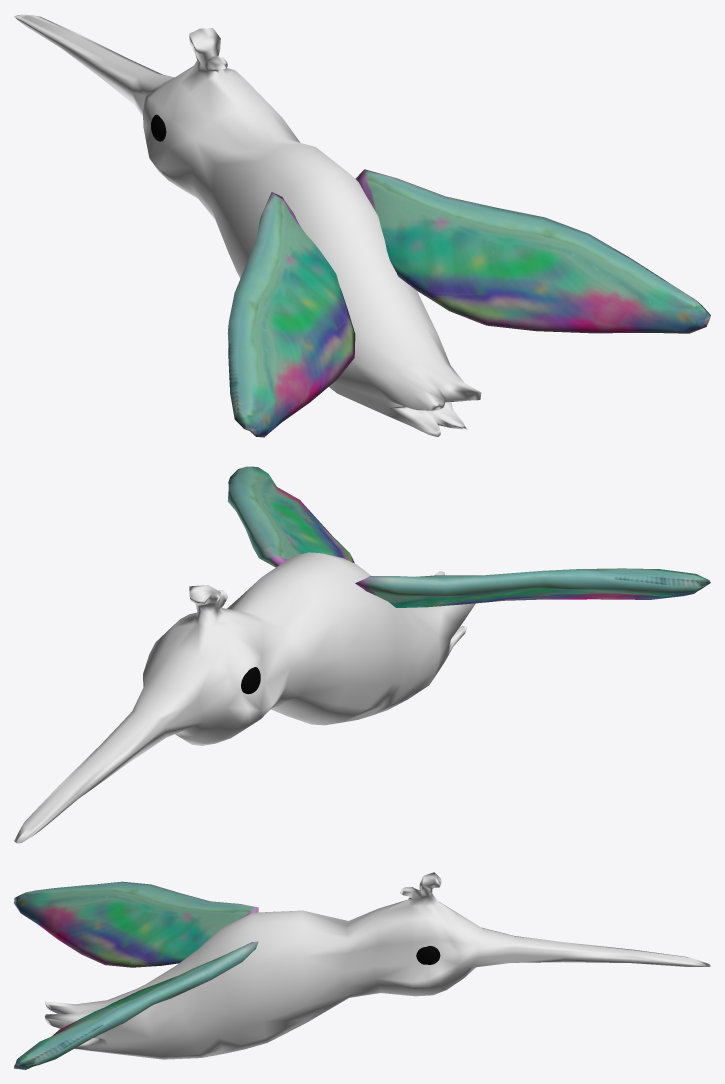
The model's file is Colibri.fbx.
3 views of the same model, one above another, from view 1: azimuth 30°, elevation 25°; view 2: azimuth 150°, elevation 25°; view 3: azimuth 270°, elevation 25° (orthographic). The views are drawn at different scales.
Parts seen in each view (by area): view 1: alas lp, colibri lp; view 2: colibri lp, alas lp; view 3: colibri lp, alas lp, Sphere.
Boxes of the visible parts, box(x1,y1,x2,y2) form: alas lp: box(227, 169, 710, 437); colibri lp: box(14, 14, 481, 436); colibri lp: box(14, 552, 475, 843); alas lp: box(227, 466, 710, 607); colibri lp: box(45, 872, 710, 1059); alas lp: box(14, 881, 258, 1069); Sphere: box(416, 946, 440, 964).
Bounding box in the file's own units: 3129 × 1521 × 5385.
3 materials, 1 textured.
